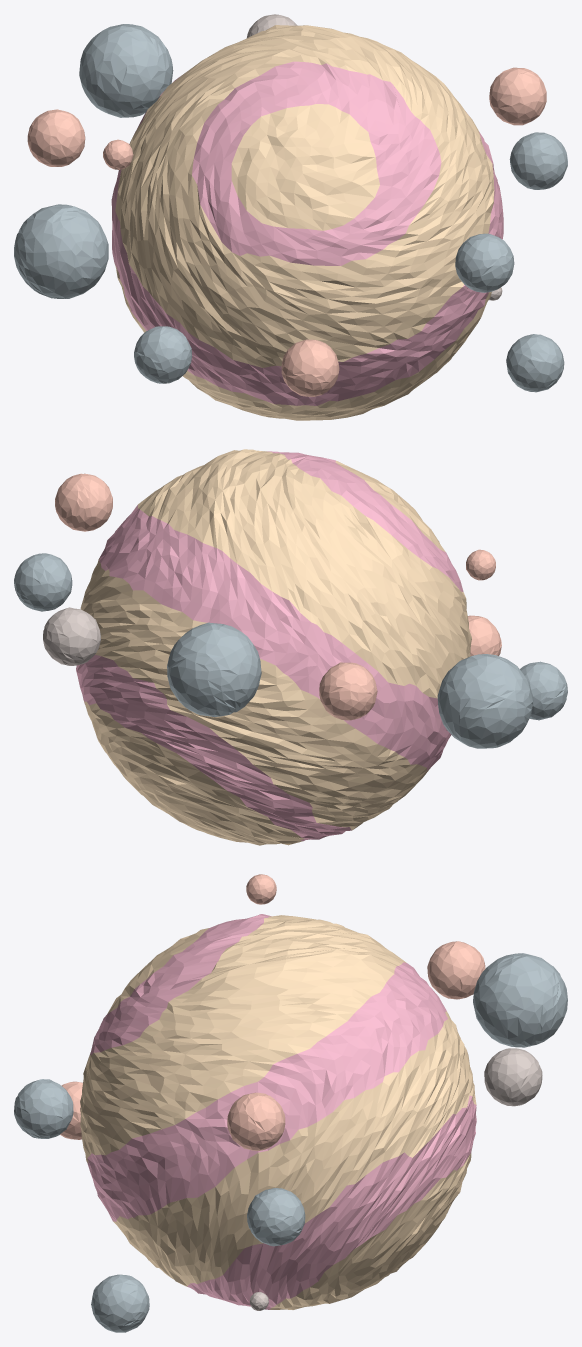
Rendered from Planet_1.glb.
3 renders of one model, top to bottom at view 1: azimuth 30°, elevation 25°; view 2: azimuth 150°, elevation 25°; view 3: azimuth 270°, elevation 25°, orthographic.
Visible parts, largest first — view 1: Planet_1; view 2: Planet_1; view 3: Planet_1.
Boxes of the visible parts, x1=… form: Planet_1: x1=14, y1=14, x2=567, y2=420; Planet_1: x1=14, y1=449, x2=567, y2=845; Planet_1: x1=14, y1=874, x2=567, y2=1332.
Bounding box in the file's own units: 30.97 × 20.01 × 28.12.
1 material, 1 textured.
